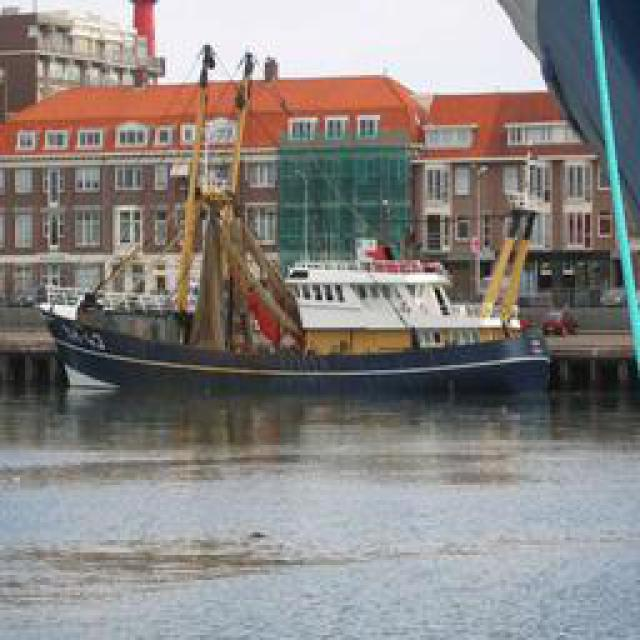Ship: (26, 134, 561, 412)
